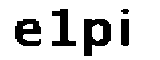1: (48, 4, 79, 51)
e: (11, 17, 44, 51)
i: (117, 4, 138, 49)
p: (82, 16, 112, 60)
